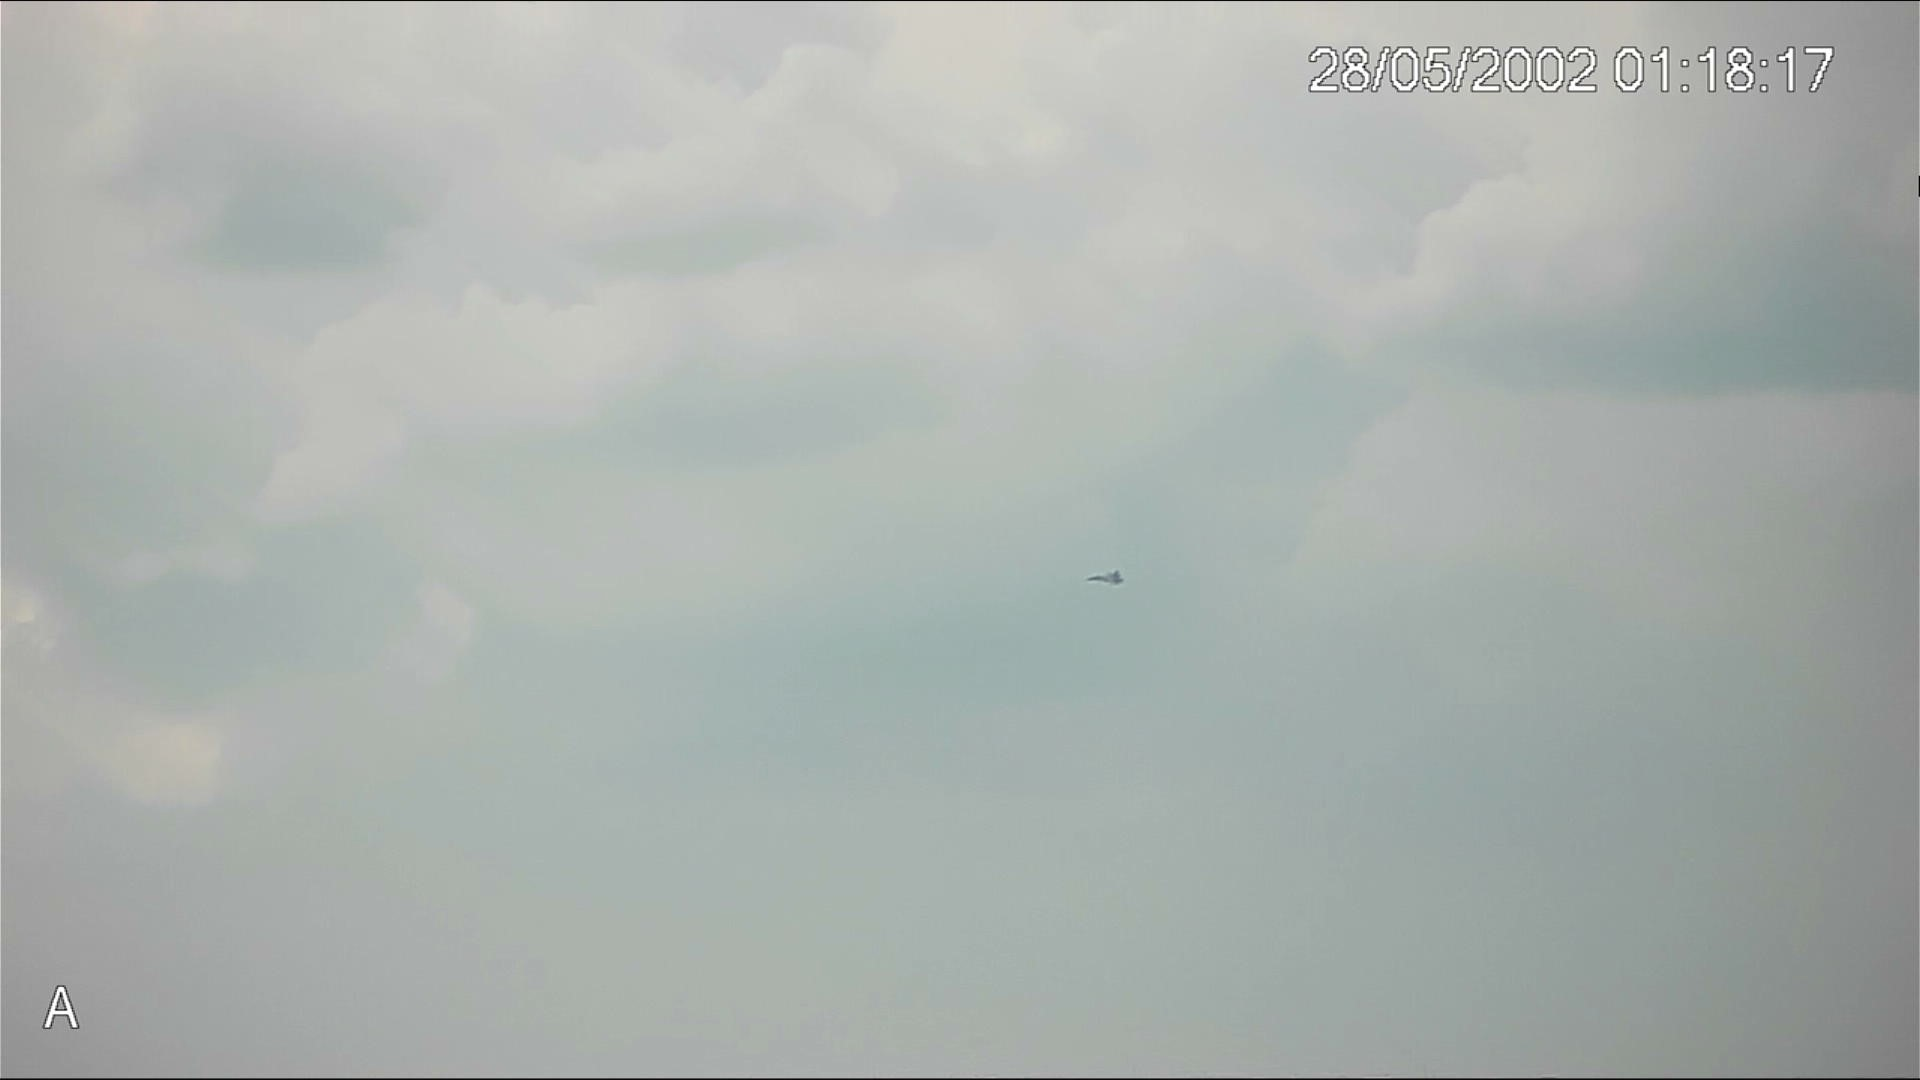SU_30: (1085, 568, 1127, 589)
